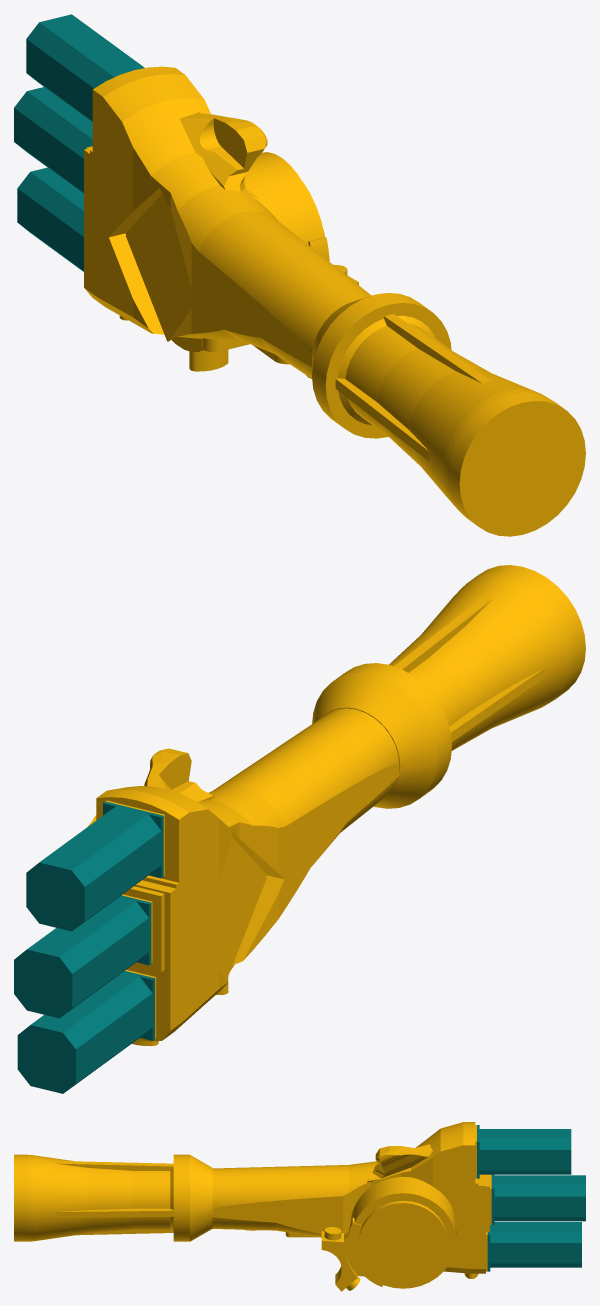
3 views of the same model, one above another, from view 1: azimuth 30°, elevation 25°; view 2: azimuth 150°, elevation 25°; view 3: azimuth 270°, elevation 25° (orthographic). The views are drawn at different scales.
Parts seen in each view (by area): view 1: KR16-AV300.sldasm-Part-7-1-1, KR16-AV300.sldasm-Part-6-1-3, KR16-AV300.sldasm-Part-6-1-2, KR16-AV300.sldasm-Part-6-1-1; view 2: KR16-AV300.sldasm-Part-7-1-1, KR16-AV300.sldasm-Part-6-1-3, KR16-AV300.sldasm-Part-6-1-2, KR16-AV300.sldasm-Part-6-1-1; view 3: KR16-AV300.sldasm-Part-7-1-1, KR16-AV300.sldasm-Part-6-1-2, KR16-AV300.sldasm-Part-6-1-3, KR16-AV300.sldasm-Part-6-1-1.
Boxes of the visible parts, left/top/right/bottom form: KR16-AV300.sldasm-Part-7-1-1: left=84, top=66, right=585, bottom=536; KR16-AV300.sldasm-Part-6-1-3: left=26, top=14, right=144, bottom=121; KR16-AV300.sldasm-Part-6-1-2: left=14, top=87, right=92, bottom=193; KR16-AV300.sldasm-Part-6-1-1: left=17, top=167, right=83, bottom=271; KR16-AV300.sldasm-Part-7-1-1: left=88, top=565, right=585, bottom=1046; KR16-AV300.sldasm-Part-6-1-3: left=26, top=801, right=163, bottom=931; KR16-AV300.sldasm-Part-6-1-2: left=14, top=895, right=151, bottom=1018; KR16-AV300.sldasm-Part-6-1-1: left=17, top=971, right=154, bottom=1093; KR16-AV300.sldasm-Part-7-1-1: left=14, top=1122, right=491, bottom=1291; KR16-AV300.sldasm-Part-6-1-2: left=491, top=1174, right=585, bottom=1224; KR16-AV300.sldasm-Part-6-1-3: left=477, top=1125, right=571, bottom=1178; KR16-AV300.sldasm-Part-6-1-1: left=487, top=1222, right=581, bottom=1271.
Size of the model in its own units: 0.1955 by 0.2875 by 1.03.
